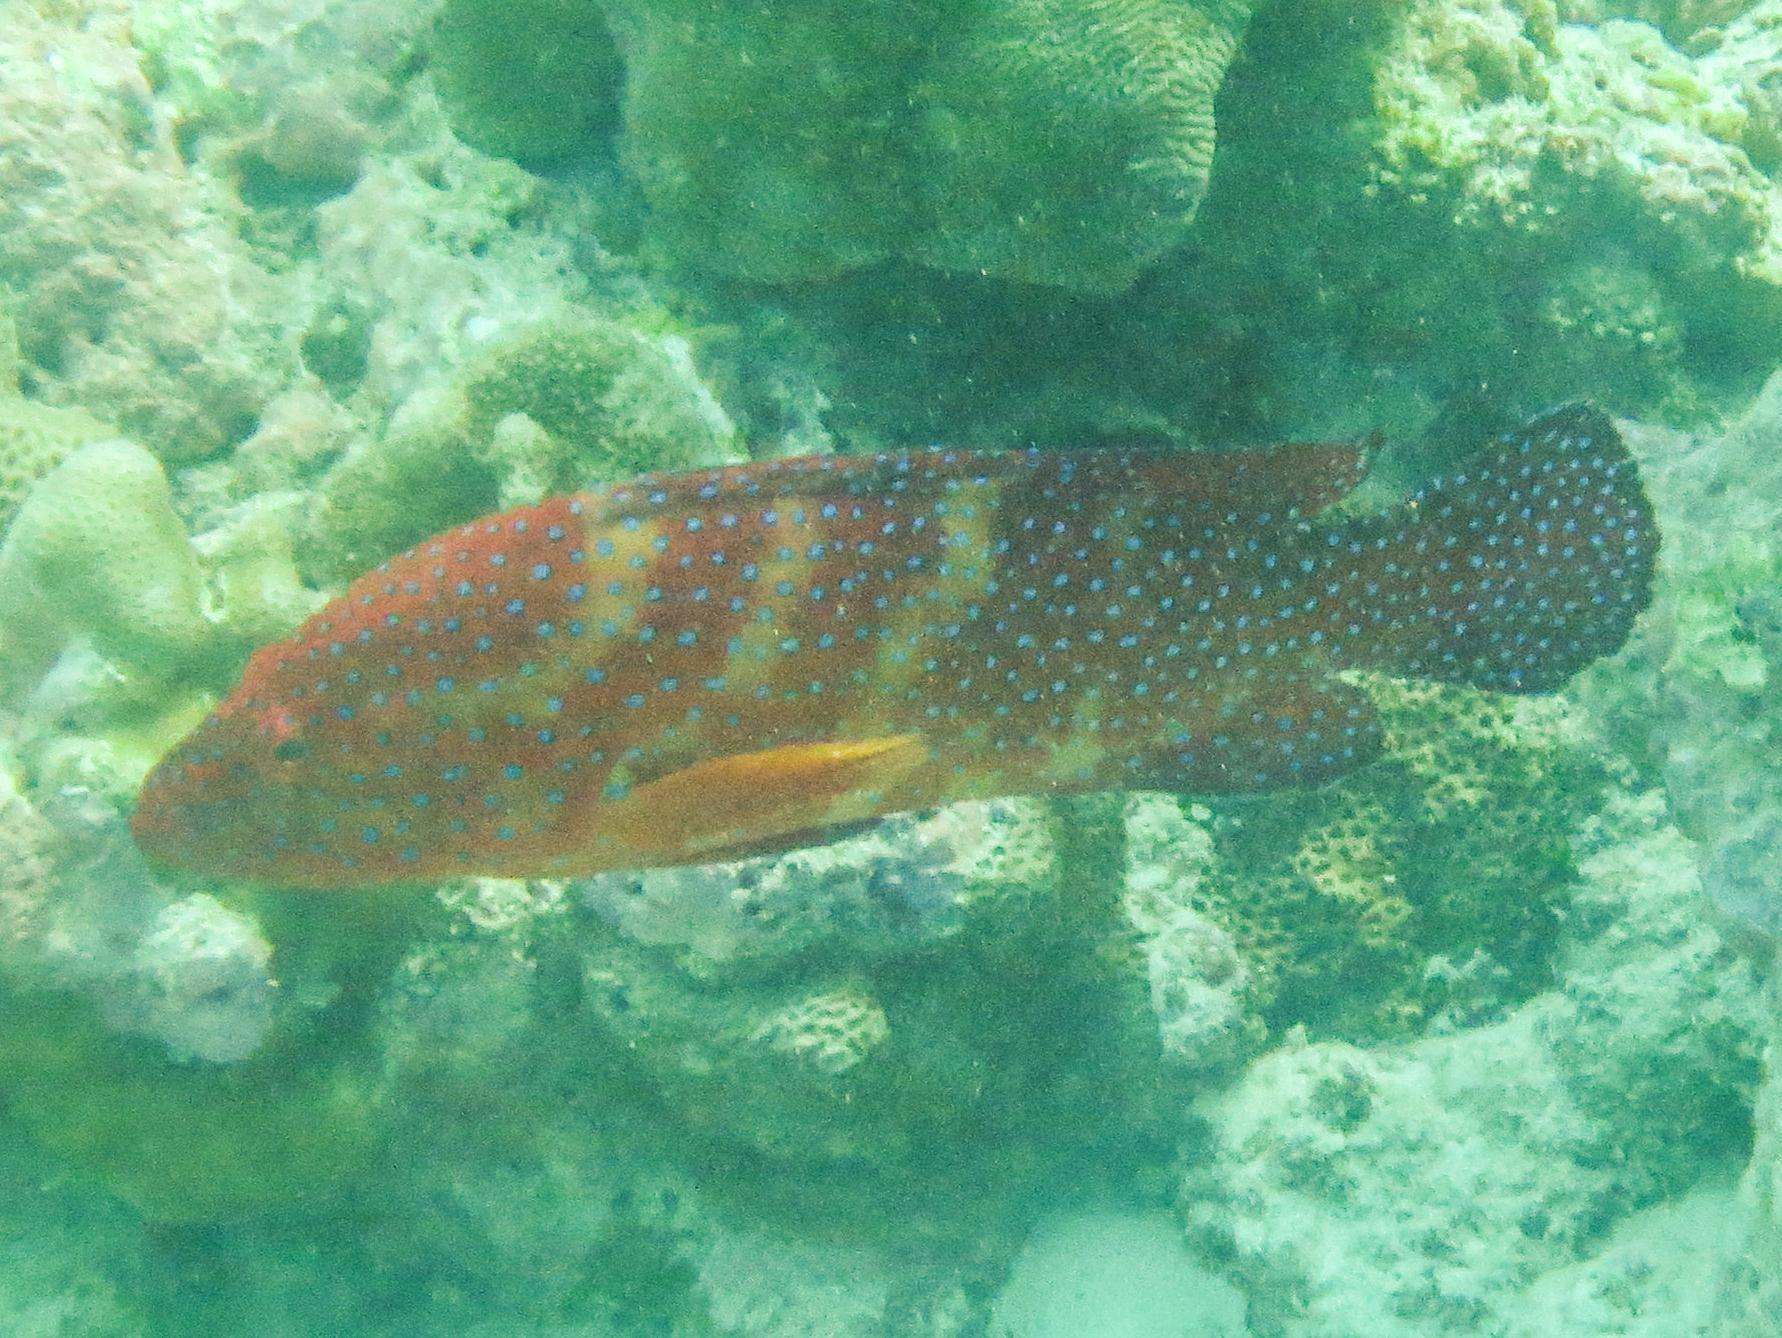Fish: (48, 337, 1722, 1093)
